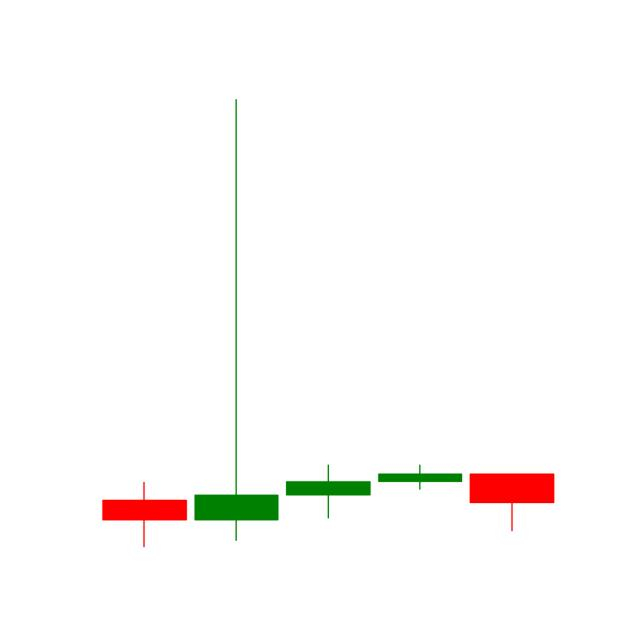Hanging Man: (468, 471, 556, 534)
Inverted Hammer: (192, 95, 284, 545)
Standard Doji: (287, 462, 371, 521), (376, 462, 464, 492)
